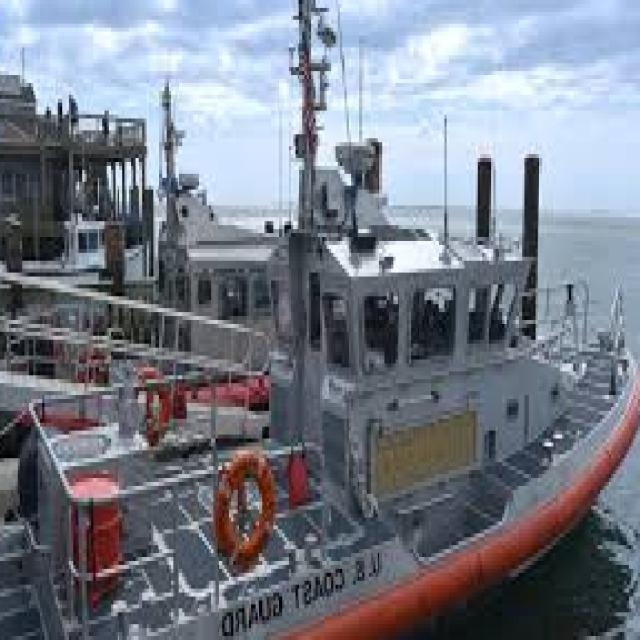fishing boat: (40, 181, 629, 640)
